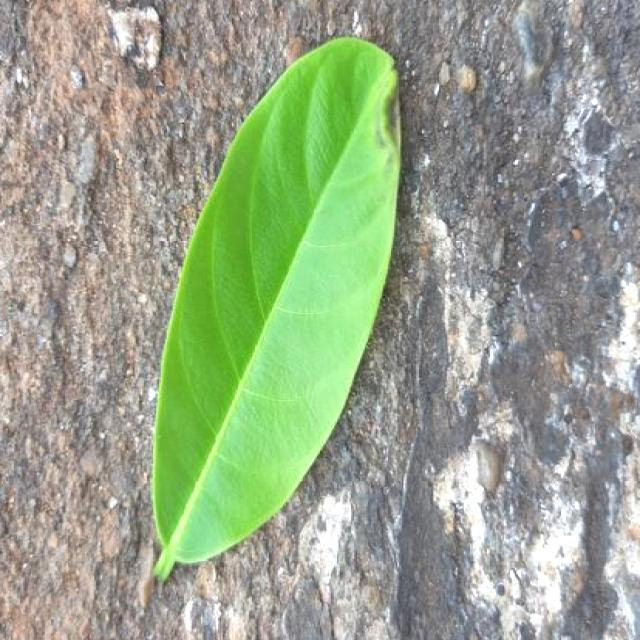leaf: (150, 35, 402, 582)
